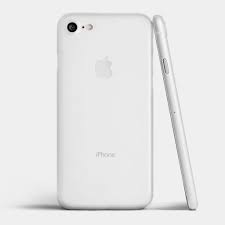iphone: (51, 6, 156, 212)
